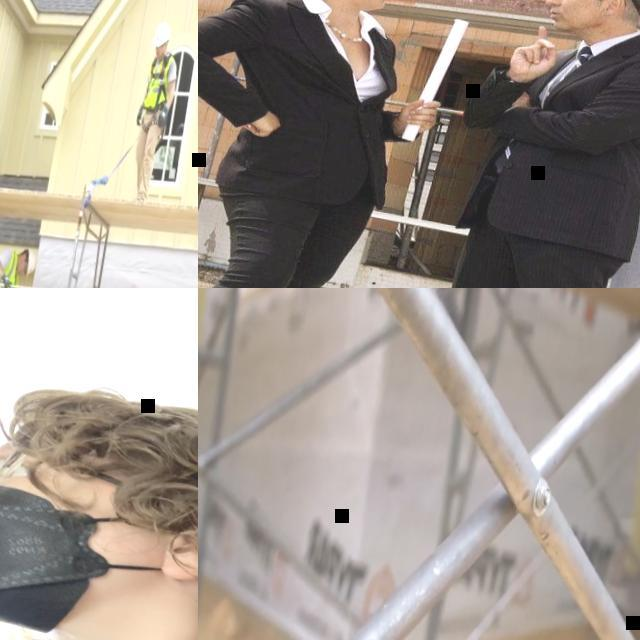helmet: (152, 22, 172, 49), (22, 248, 38, 278)
vest: (144, 52, 175, 111), (0, 245, 23, 288)
